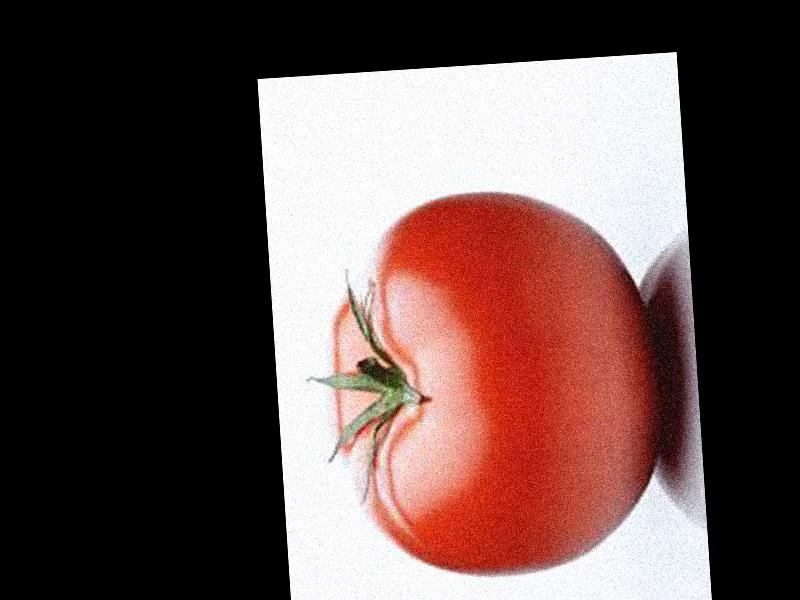Tomato: (318, 183, 666, 586)
